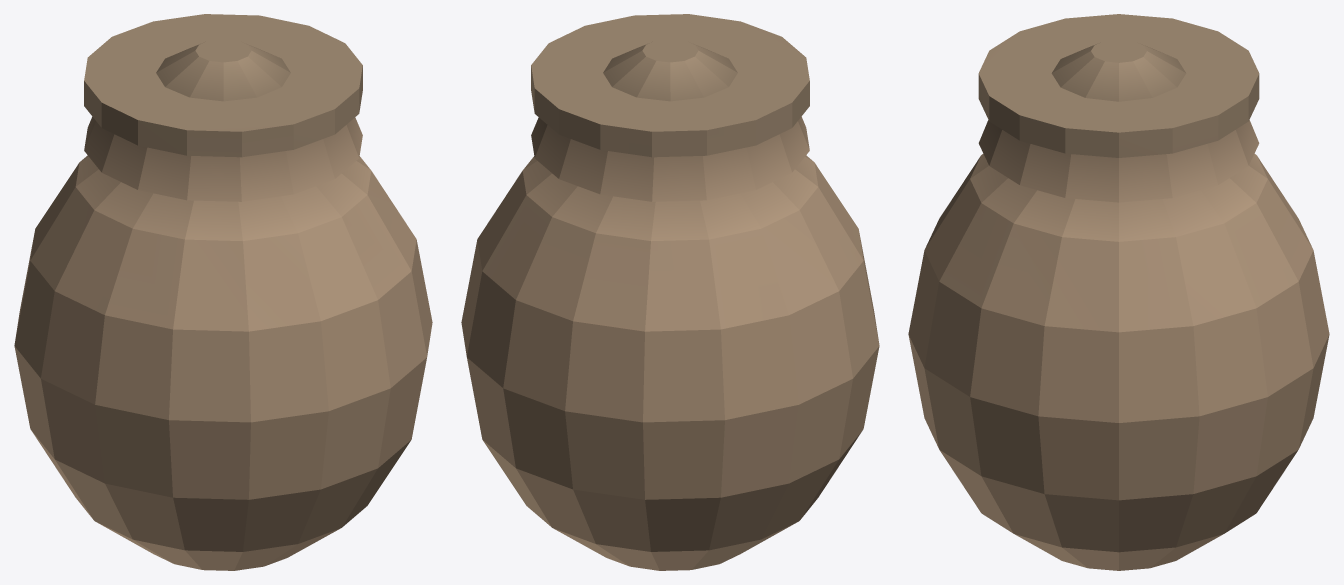
File: furn_onggi__brown.glb
3 views of the same model, side by side, from view 1: azimuth 30°, elevation 25°; view 2: azimuth 150°, elevation 25°; view 3: azimuth 270°, elevation 25° (orthographic).
Bounding box in the file's own units: 0.6 × 0.79 × 0.6.
